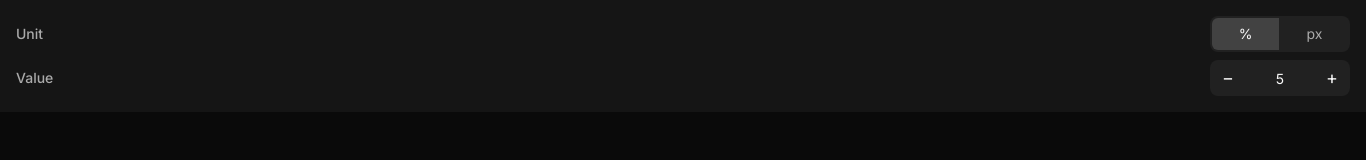
StepperInput › decrements value when decrement button is clicked
Click the button named "Decrease value".
click(1228, 78)  # box [1210, 60, 1246, 96]
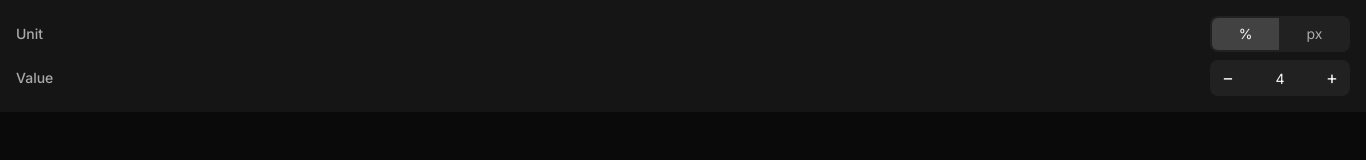
Expected: the number field holds "4", [1246, 60, 1314, 96]
